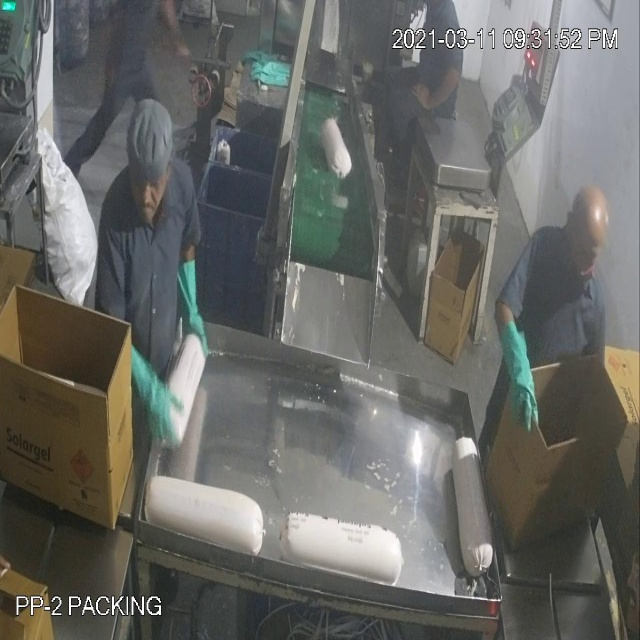Guantes: (166, 249, 213, 360), (501, 309, 537, 442)
Sin_guantes: (410, 64, 465, 123), (163, 1, 203, 72)
